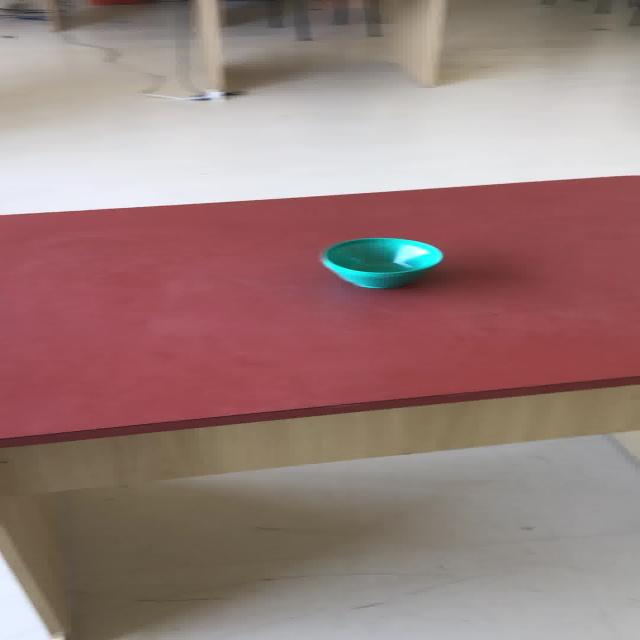bowl: (318, 236, 443, 289)
